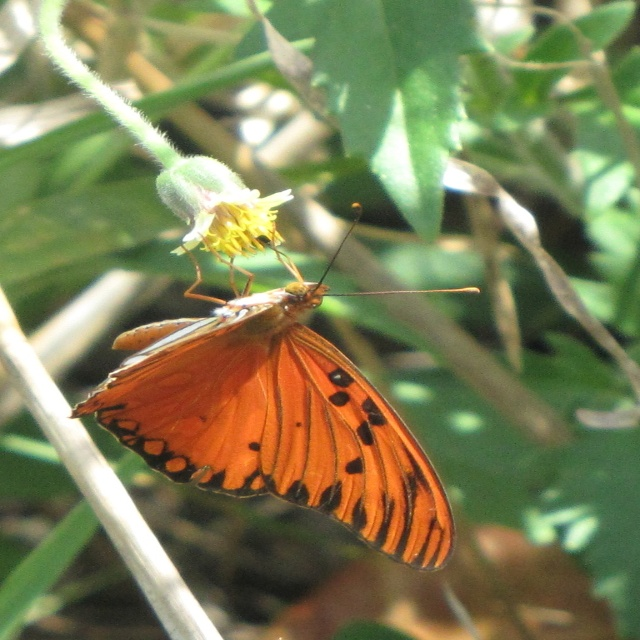Butterfly: (66, 202, 479, 574)
